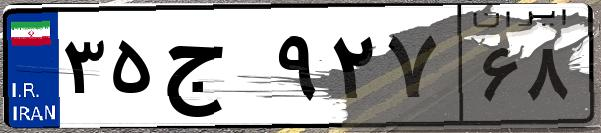2: (330, 28, 385, 110)
3: (57, 26, 110, 100)
5: (110, 28, 158, 98)
6: (475, 38, 525, 113)
7: (385, 28, 445, 110)
8: (525, 38, 570, 115)
9: (270, 28, 330, 110)
ج: (158, 20, 270, 120)
